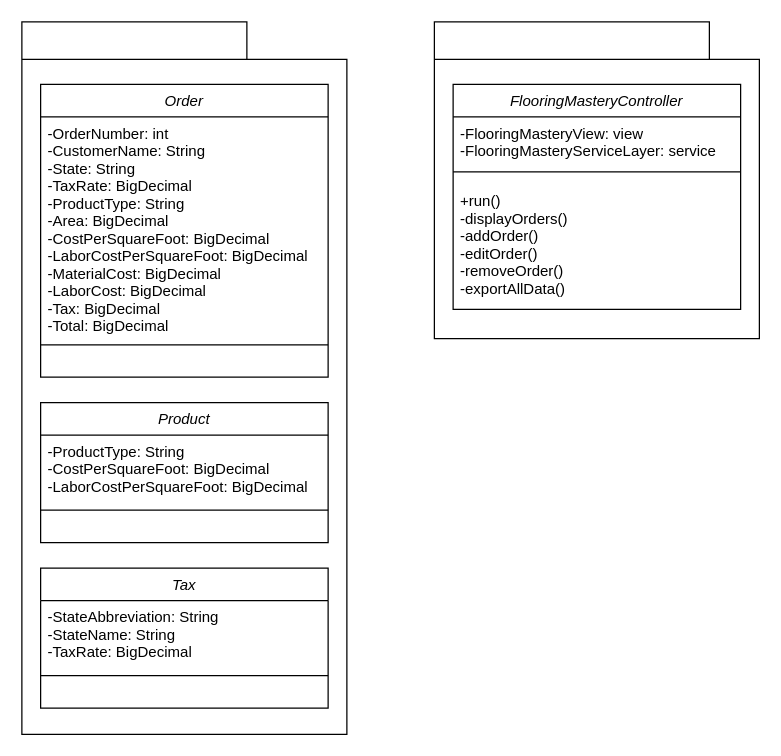
Some shapes in this 781 by 756 pixel diagram are drawn without their labels. Each missing label, with the box of its shape:
com.jah.flooring_mastery.controller: (433, 21, 759, 338)
com.jah.flooring_mastery.dto: (21, 21, 347, 734)
